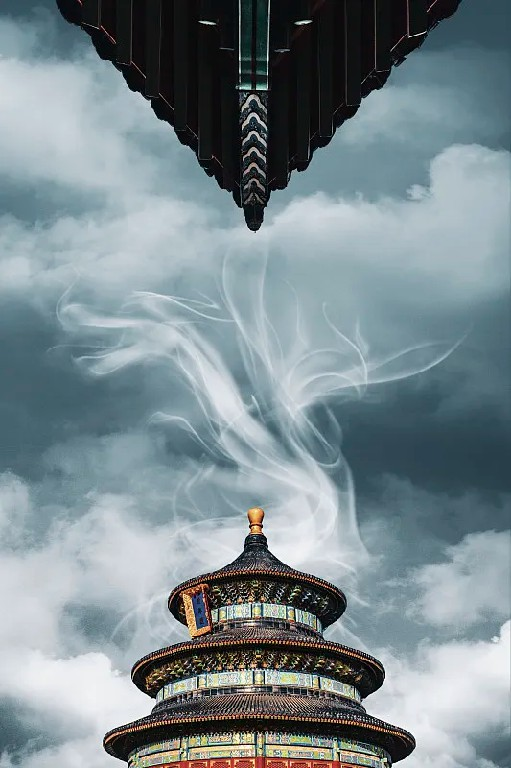Heaven: (103, 507, 415, 768)
